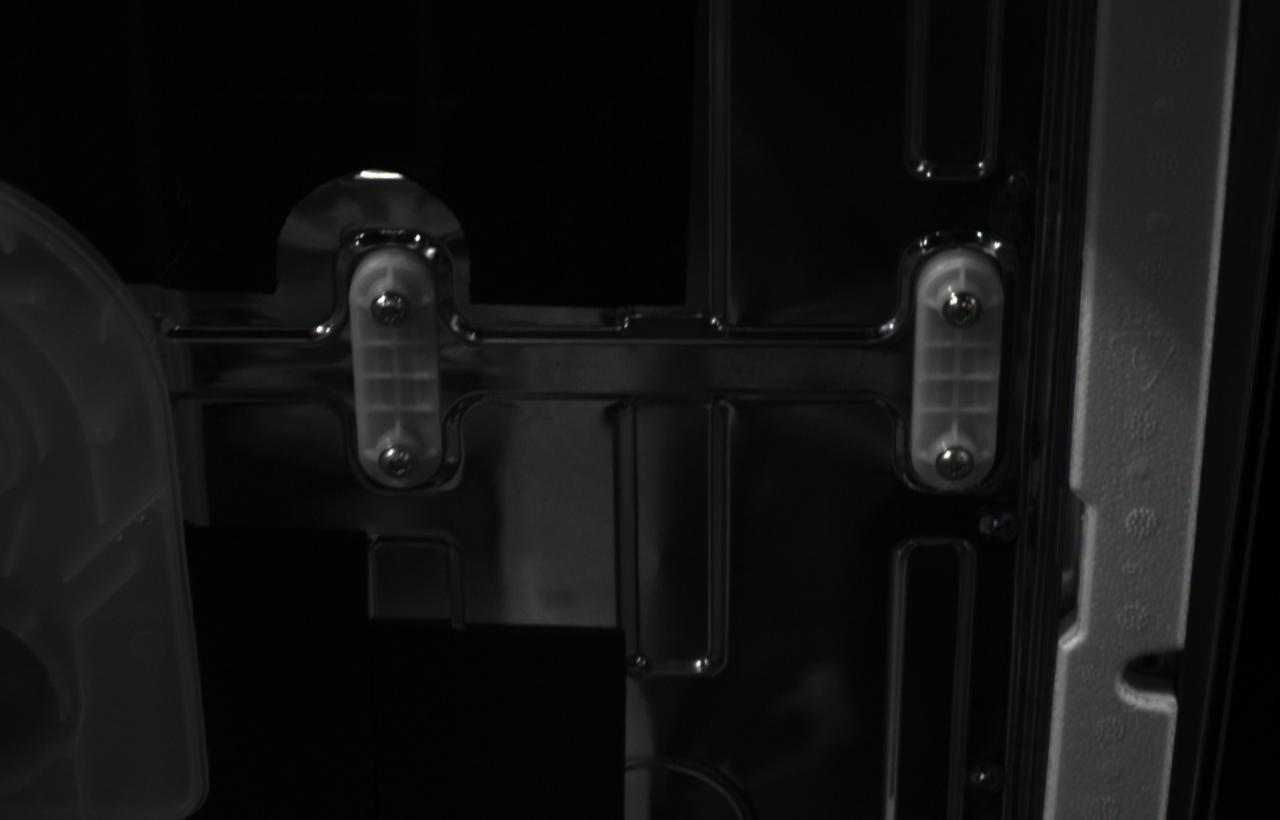vida-ok: (370, 291, 411, 327), (935, 446, 975, 482), (942, 292, 982, 327), (378, 444, 416, 477)
